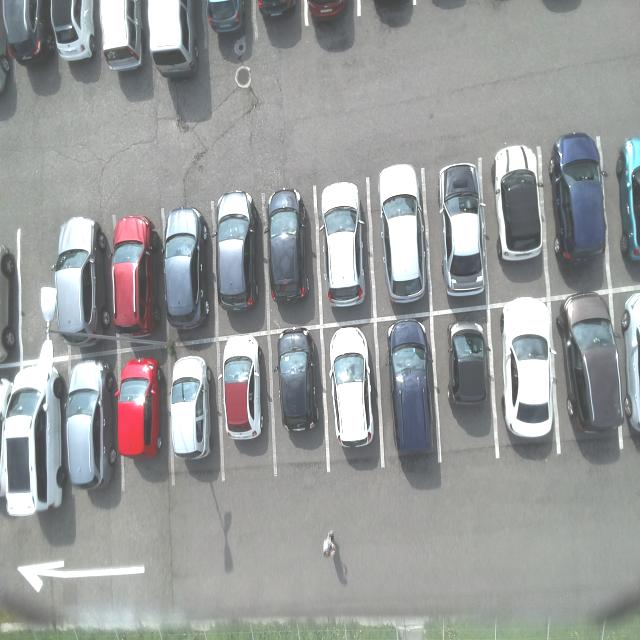car: (560, 292, 625, 438), (5, 366, 65, 517), (551, 135, 609, 275), (501, 298, 557, 442), (56, 214, 112, 347), (436, 161, 489, 301), (379, 162, 430, 304), (387, 319, 438, 460), (492, 143, 548, 266), (68, 361, 117, 499), (109, 215, 160, 340), (330, 326, 379, 453), (215, 190, 263, 316), (320, 181, 365, 314), (164, 206, 208, 332), (266, 189, 310, 310), (117, 358, 166, 465), (222, 336, 269, 447), (170, 355, 215, 467), (277, 327, 319, 438), (450, 319, 492, 407)
